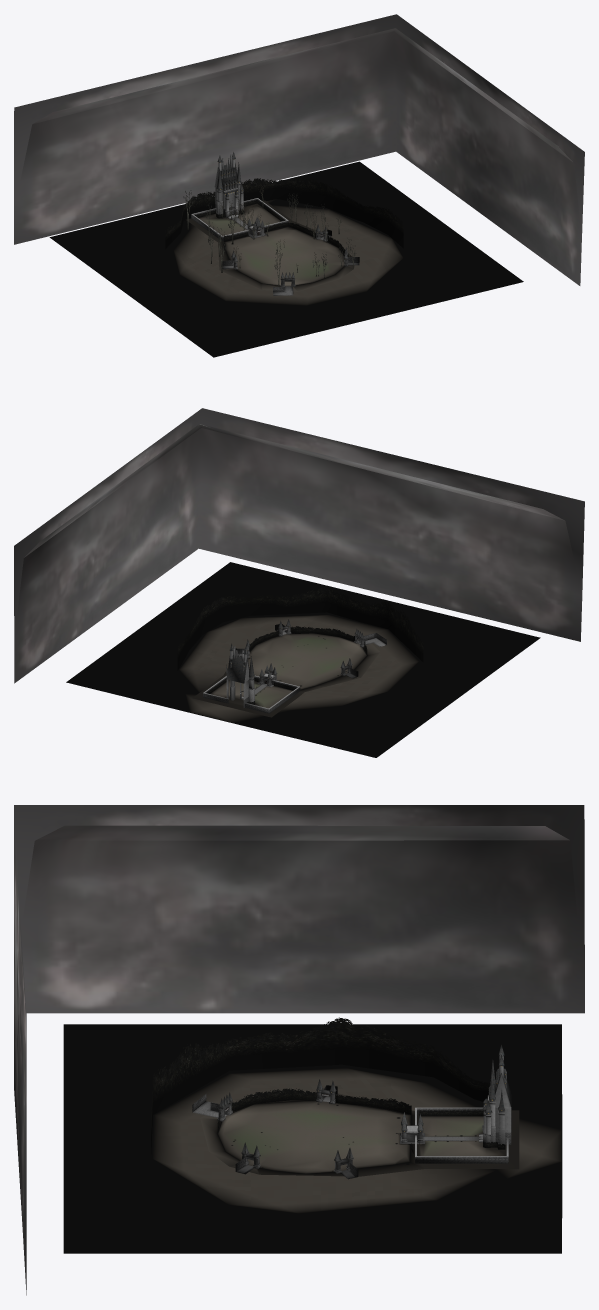
The model's file is bossbot_lobby.glb.
3 views of the same model, one above another, from view 1: azimuth 30°, elevation 25°; view 2: azimuth 150°, elevation 25°; view 3: azimuth 270°, elevation 25° (orthographic). The views are drawn at different scales.
Parts seen in each view (by area): view 1: LB_SkySides, grass_outside, LB_SkyTop, grass_inside, outsideHedgeTop, outsideHedgeBottem, polySurface16, closebushes; view 2: LB_SkySides, grass_outside, LB_SkyTop, grass_inside, outsideHedgeTop, outsideHedgeBottem, closebushes, polySurface16; view 3: LB_SkySides, grass_outside, LB_SkyTop, grass_inside, outsideHedgeTop, outsideHedgeBottem, closebushes, polySurface16.
Boxes of the visible parts, left/top/right/bottom form: LB_SkySides: left=14, top=14, right=584, bottom=285; grass_outside: left=49, top=161, right=523, bottom=357; LB_SkyTop: left=22, top=28, right=578, bottom=214; grass_inside: left=186, top=200, right=354, bottom=291; outsideHedgeTop: left=165, top=178, right=403, bottom=240; outsideHedgeBottem: left=165, top=188, right=403, bottom=248; polySurface16: left=191, top=198, right=288, bottom=241; closebushes: left=224, top=222, right=345, bottom=253; LB_SkySides: left=14, top=408, right=584, bottom=683; grass_outside: left=66, top=562, right=540, bottom=757; LB_SkyTop: left=18, top=424, right=575, bottom=609; grass_inside: left=192, top=629, right=379, bottom=717; outsideHedgeTop: left=177, top=587, right=423, bottom=658; outsideHedgeBottem: left=177, top=603, right=423, bottom=670; closebushes: left=249, top=626, right=367, bottom=655; polySurface16: left=203, top=675, right=300, bottom=713; LB_SkySides: left=14, top=805, right=584, bottom=1295; grass_outside: left=63, top=1024, right=562, bottom=1253; LB_SkyTop: left=25, top=825, right=575, bottom=908; grass_inside: left=200, top=1092, right=519, bottom=1176; outsideHedgeTop: left=151, top=1017, right=511, bottom=1139; outsideHedgeBottem: left=151, top=1048, right=511, bottom=1153; closebushes: left=217, top=1088, right=413, bottom=1159; polySurface16: left=415, top=1107, right=508, bottom=1163.
Bounding box in the file's own units: 952 × 327 × 812.
30 materials, 25 textured.
